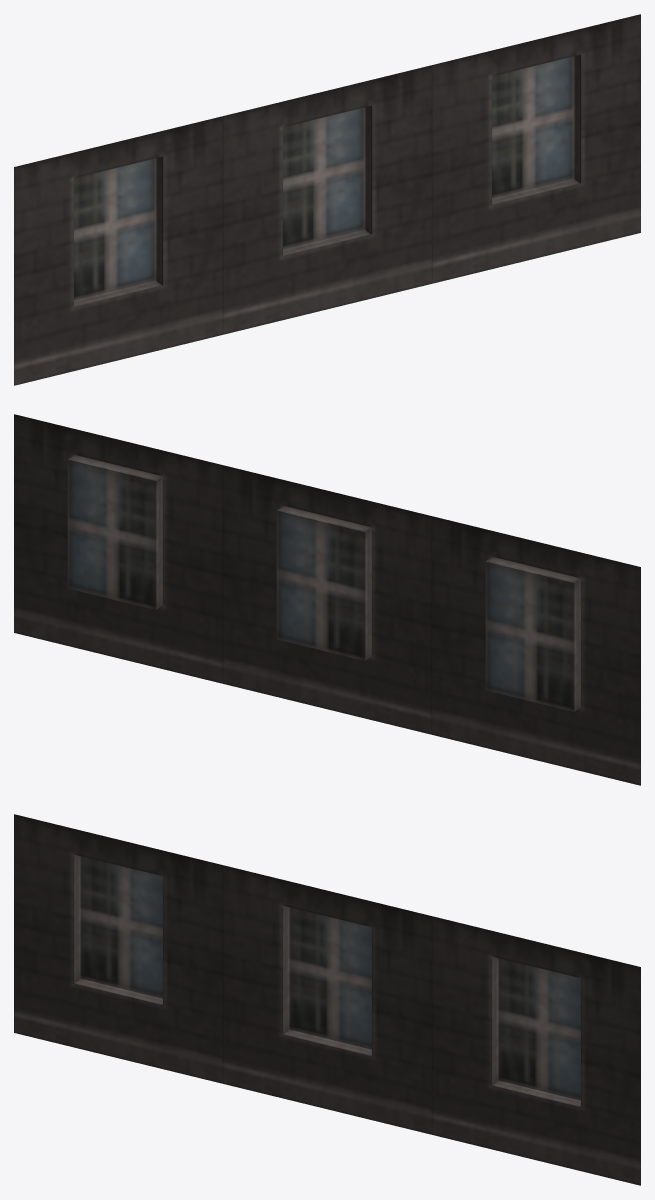
File: B7_WindowB3x.FBX
The picture shows the model from 3 angles, top to bottom: view 1: azimuth 30°, elevation 25°; view 2: azimuth 150°, elevation 25°; view 3: azimuth 330°, elevation 25°; orthographic projection.
Visible parts, largest first — view 1: B7_WindowB3x; view 2: B7_WindowB3x; view 3: B7_WindowB3x.
Boxes of the visible parts, left/top/right/bottom form: B7_WindowB3x: left=14, top=14, right=640, bottom=385; B7_WindowB3x: left=14, top=414, right=640, bottom=785; B7_WindowB3x: left=14, top=814, right=640, bottom=1185.
Size of the model in its own units: 12 by 4 by 0.2192.
